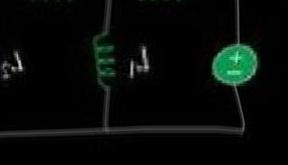Battery: (205, 35, 262, 92)
